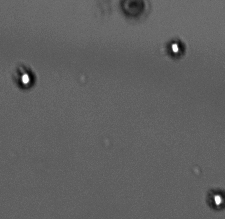Dead Cell: (119, 1, 149, 18)
Living Cell: (15, 65, 36, 91), (165, 38, 184, 59), (208, 188, 223, 210)
